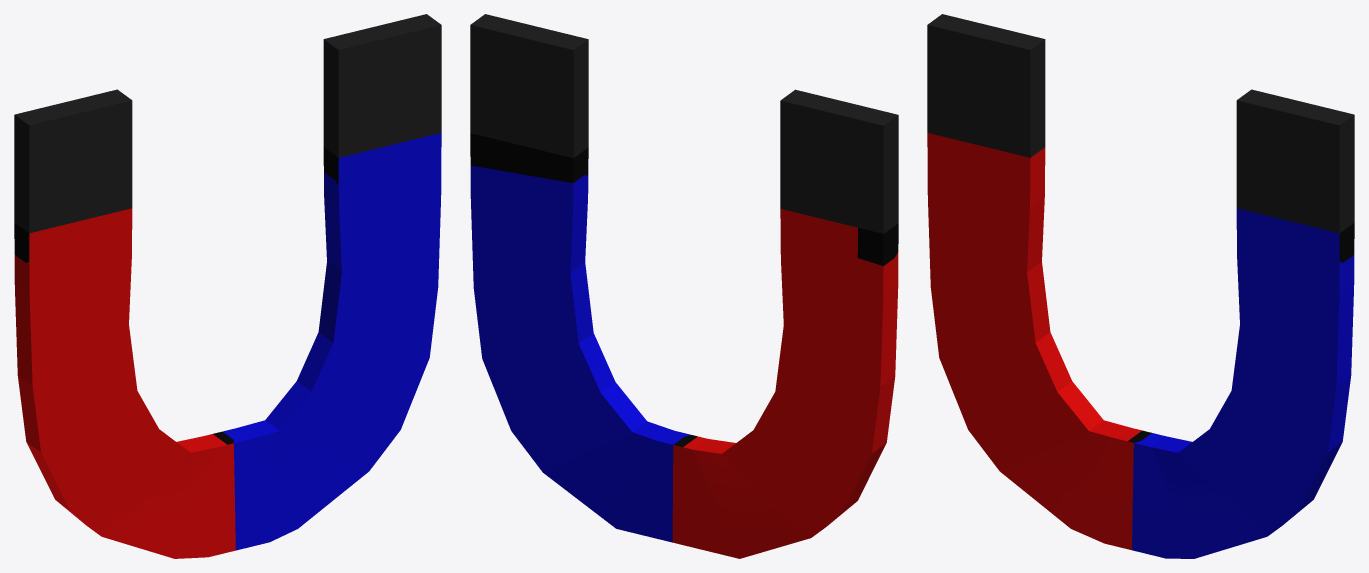
The model's file is Magnet.fbx.
The picture shows the model from 3 angles, left to right: view 1: azimuth 30°, elevation 25°; view 2: azimuth 150°, elevation 25°; view 3: azimuth 330°, elevation 25°; orthographic projection.
Visible parts, largest first — view 1: pPlane1; view 2: pPlane1; view 3: pPlane1.
Part boxes in pixels (<box>): pPlane1: <box>14,14,441,558</box>; pPlane1: <box>470,14,898,558</box>; pPlane1: <box>927,14,1354,558</box>.
Bounding box in the file's own units: 4 × 4.4 × 0.282.
